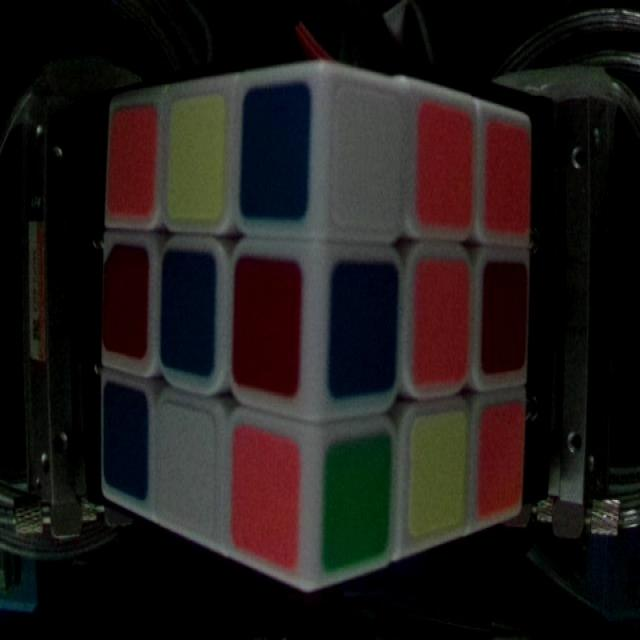b: (330, 261, 398, 390), (242, 86, 306, 208), (161, 259, 215, 372), (104, 384, 146, 494)
g: (327, 437, 392, 566)
o: (234, 427, 300, 564), (414, 103, 472, 229), (417, 261, 469, 381), (486, 120, 531, 230), (107, 108, 154, 211), (479, 408, 522, 511)
r: (235, 257, 297, 388), (104, 249, 150, 352), (484, 266, 526, 360)
w: (337, 90, 397, 218), (159, 402, 216, 528)
y: (169, 98, 224, 213), (412, 420, 467, 527)
